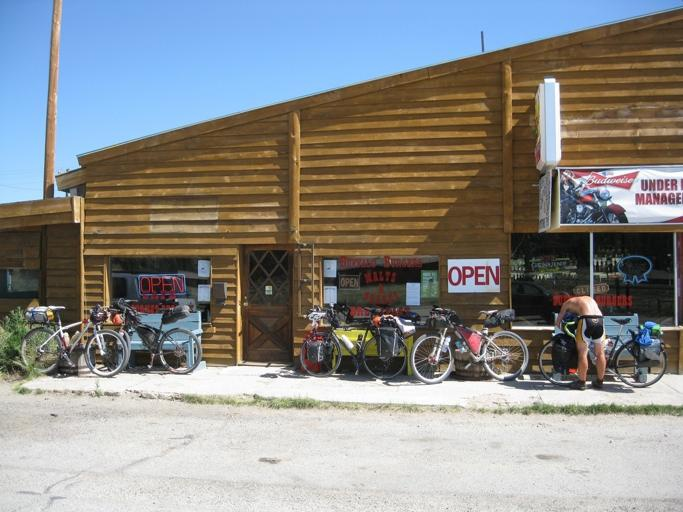non-vehicle: (537, 314, 668, 388), (410, 305, 528, 384), (298, 303, 407, 381), (19, 301, 127, 376), (105, 296, 201, 377)
